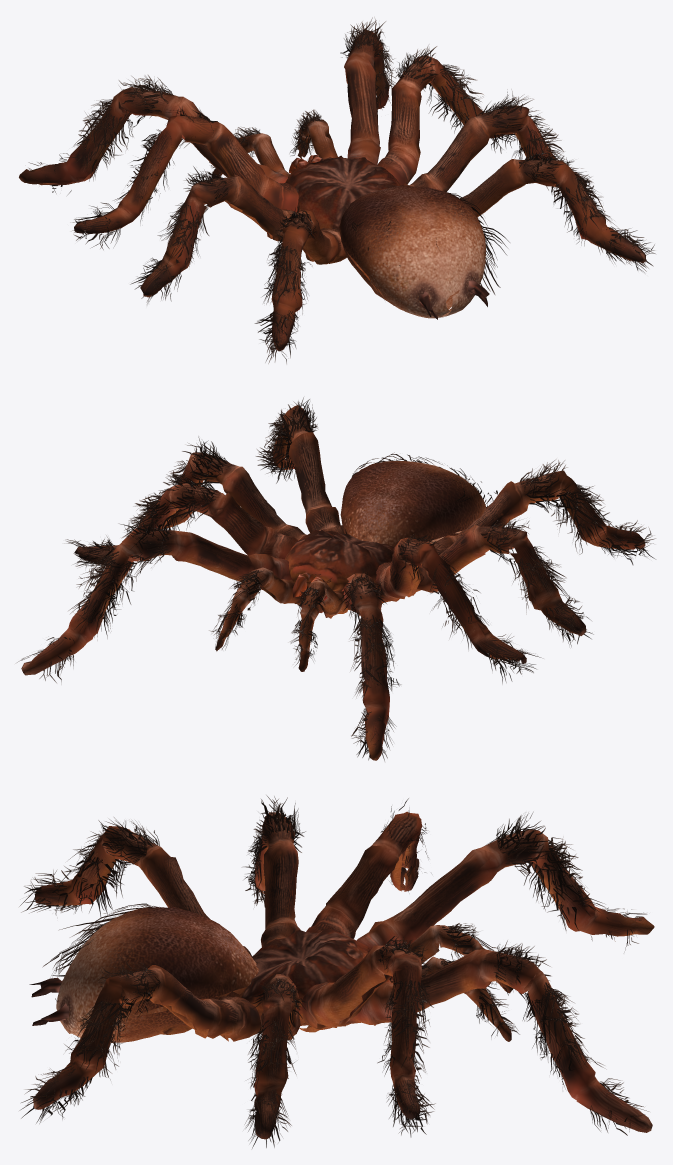
The model's file is tarantula.glb.
3 views of the same model, one above another, from view 1: azimuth 30°, elevation 25°; view 2: azimuth 150°, elevation 25°; view 3: azimuth 270°, elevation 25° (orthographic). The views are drawn at different scales.
Visible parts, largest first — view 1: reduced; view 2: reduced; view 3: reduced.
Part boxes in pixels (box(x1,y1,x2,y2)): reduced: box(19, 17, 655, 363); reduced: box(17, 397, 655, 760); reduced: box(19, 795, 654, 1148).
Size of the model in its own units: 0.5692 by 0.1733 by 0.5662.
Materials: 1 (1 with a texture image).
